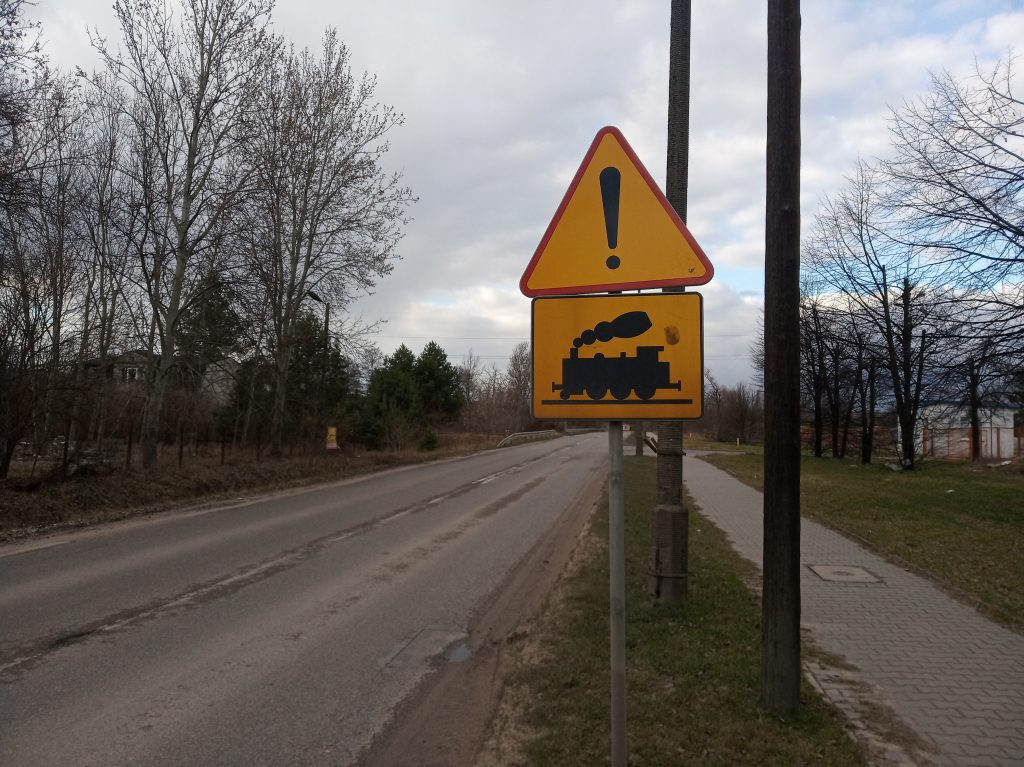a10: (538, 303, 694, 412)
